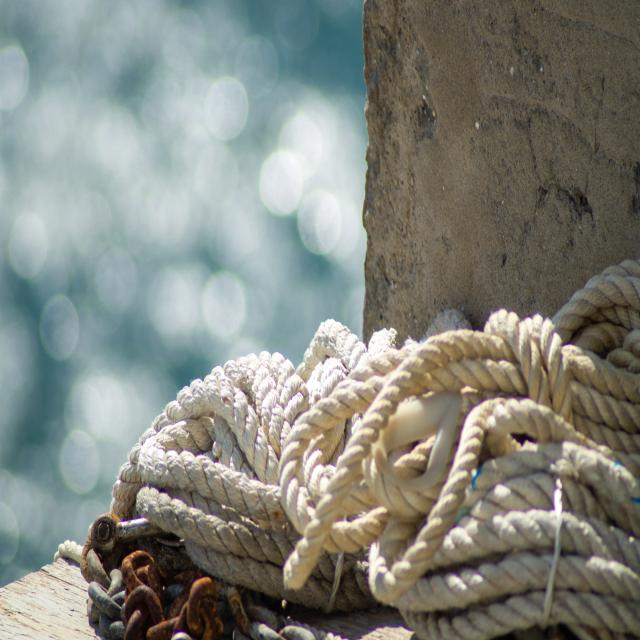rope: (80, 262, 640, 640)
